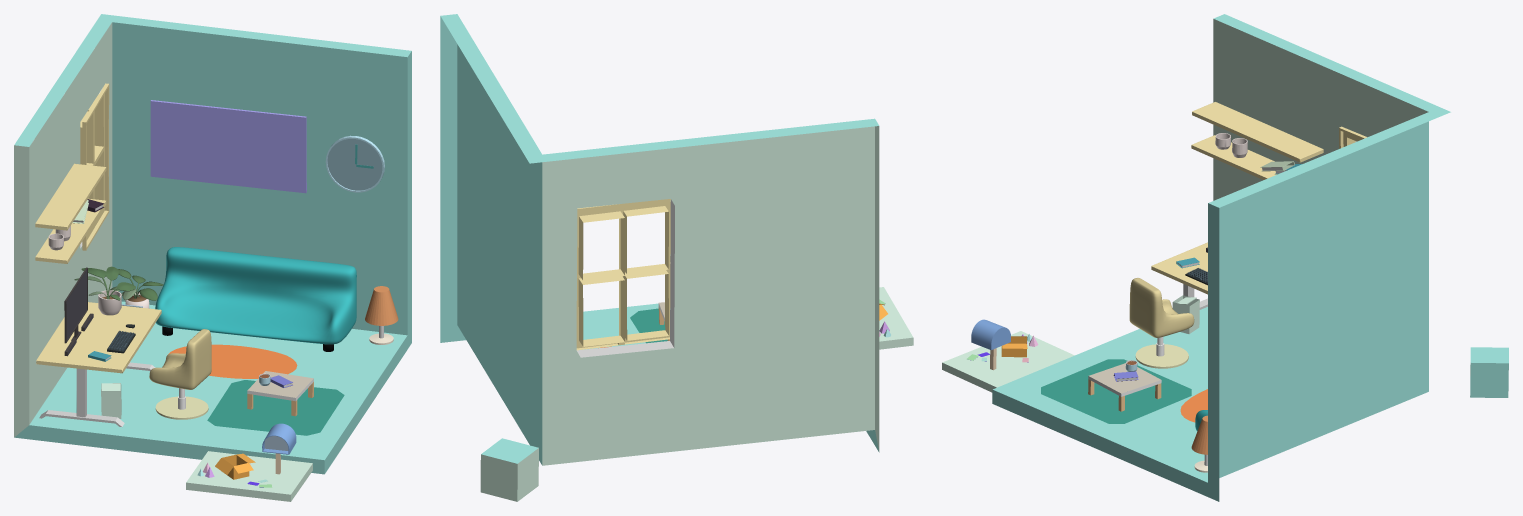
Rendered from finalroomV5.glb.
3 renders of one model, left to right at view 1: azimuth 30°, elevation 25°; view 2: azimuth 150°, elevation 25°; view 3: azimuth 270°, elevation 25°, orthographic. The views are drawn at different scales.
Parts seen in each view (by area): view 1: body, sofa, selves, flooritems, Desks, minifloor, clock, chair, tabletops, Computer, mailbox, letters; view 2: body, Cube, minifloor, flooritems; view 3: body, flooritems, selves, minifloor, sofa, chair, Cube, Desks, mailbox, letters.
Boxes of the visible parts, x1,y1,x2,y2 form: body: (14, 14, 411, 474); sofa: (110, 247, 398, 416); selves: (35, 100, 306, 263); flooritems: (101, 344, 344, 435); Desks: (36, 302, 161, 426); minifloor: (186, 451, 312, 501); clock: (325, 135, 384, 192); chair: (149, 329, 211, 389); tabletops: (64, 266, 135, 361); Computer: (64, 267, 87, 343); mailbox: (262, 423, 296, 474); letters: (215, 453, 272, 487); body: (440, 14, 879, 465); Cube: (480, 438, 538, 501); minifloor: (879, 287, 913, 349); flooritems: (598, 308, 667, 348); body: (992, 14, 1450, 501); flooritems: (1041, 295, 1207, 423); selves: (1191, 102, 1323, 179); minifloor: (942, 331, 1074, 392); sofa: (1088, 360, 1207, 472); chair: (1129, 278, 1194, 337); Cube: (1470, 347, 1508, 397); Desks: (1151, 242, 1207, 309); mailbox: (971, 319, 1010, 370); letters: (966, 336, 1028, 362).
Bounding box in the file's own units: 10.59 × 7.49 × 13.08.
